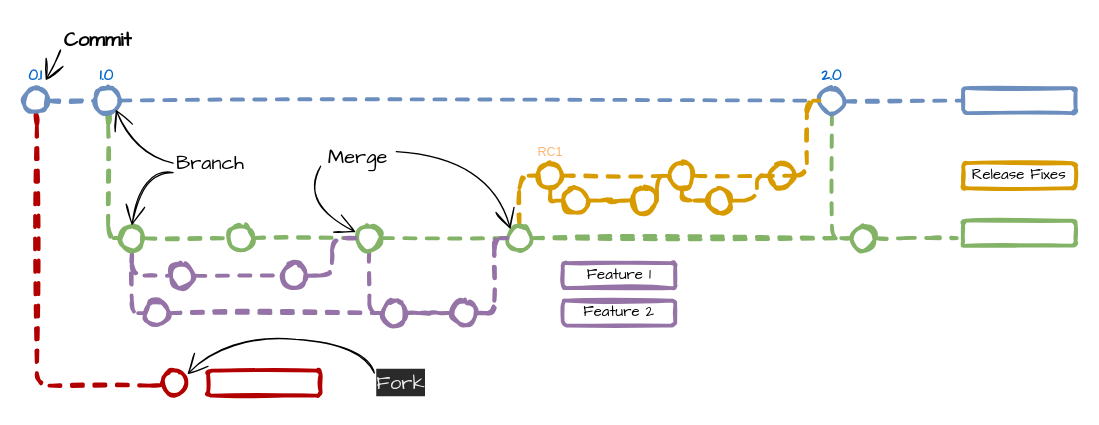
The diagram is 1099 pixels wide and 425 high, and some of its shapes have lost their labels. Here are the shapes that lost their labels. From the top down, the centre of each, then its label:
At [1019,100]: "Master".
At [681,175]: "RC2".
At [781,175]: "RC3".
At [1019,232]: "Branch 1".
